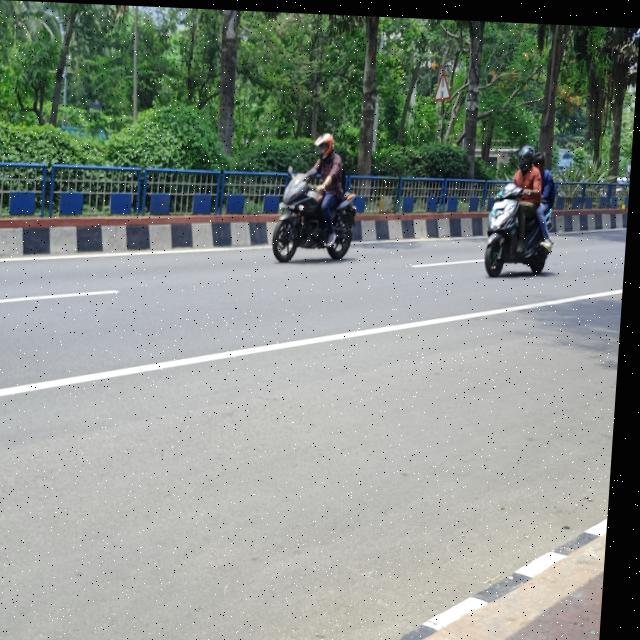bike: (266, 168, 370, 257), (480, 181, 567, 272)
